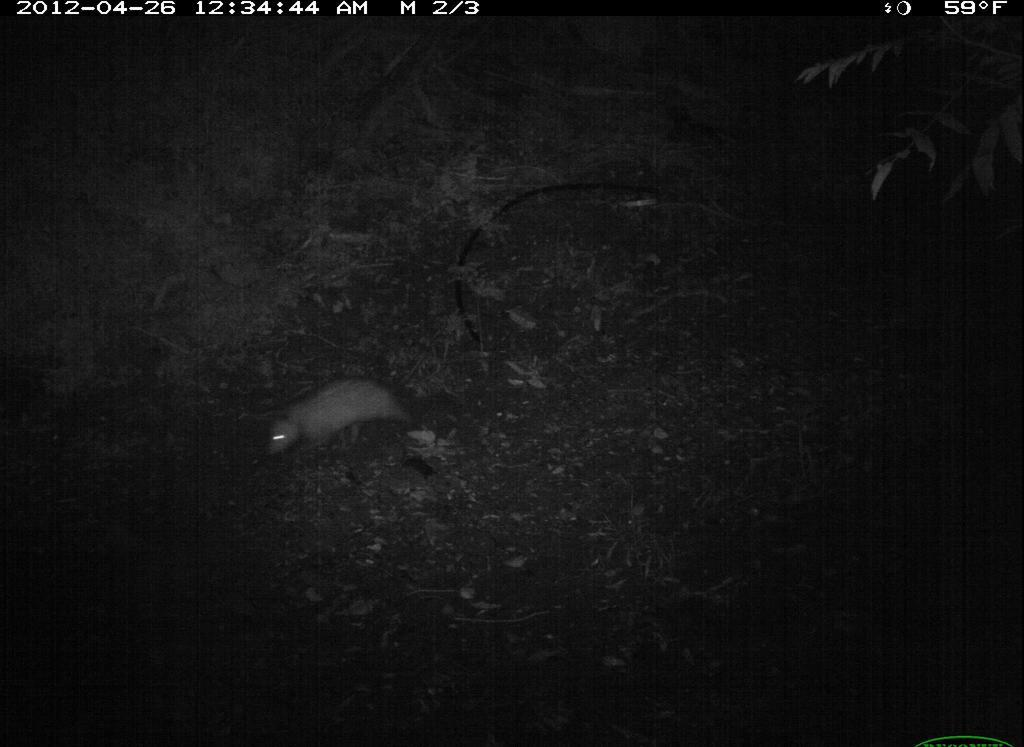opossum: (249, 368, 432, 475)
